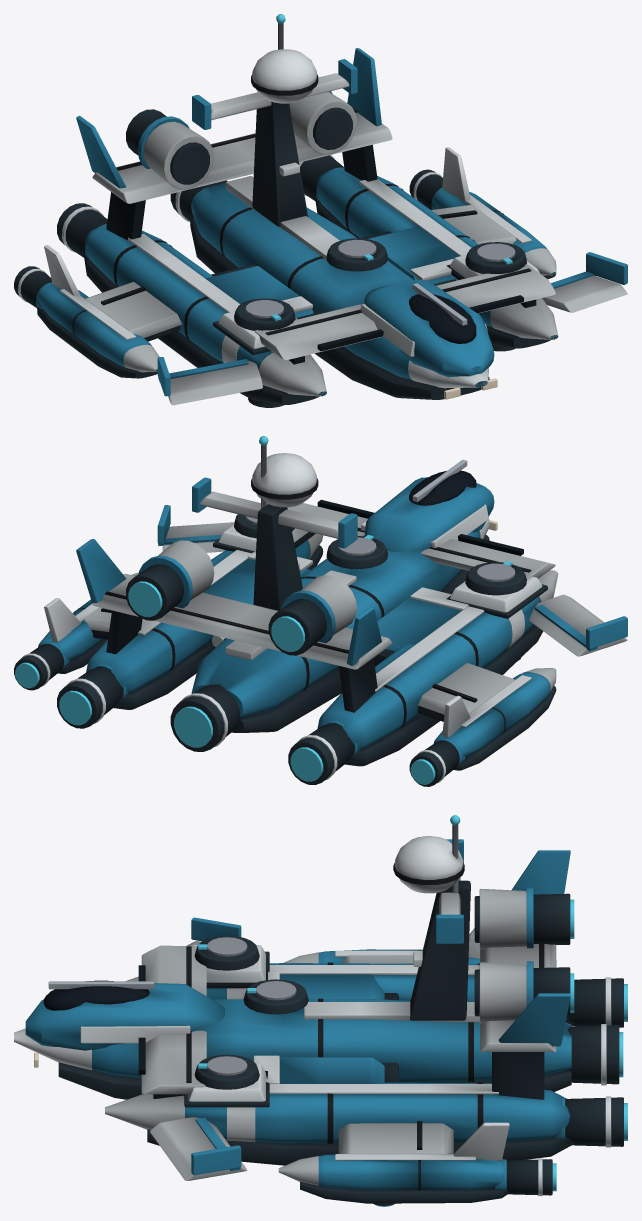
File: ex_skiff_8.glb
The picture shows the model from 3 angles, top to bottom: view 1: azimuth 30°, elevation 25°; view 2: azimuth 150°, elevation 25°; view 3: azimuth 270°, elevation 25°; orthographic projection. The views are drawn at different scales.
Visible parts, largest first — view 1: body; view 2: body; view 3: body.
Part boxes in pixels (left/top/right/bottom): body: left=14, top=14, right=627, bottom=407; body: left=14, top=436, right=627, bottom=786; body: left=14, top=815, right=627, bottom=1206.
Bounding box in the file's own units: 9.89 × 5.6 × 10.77.
